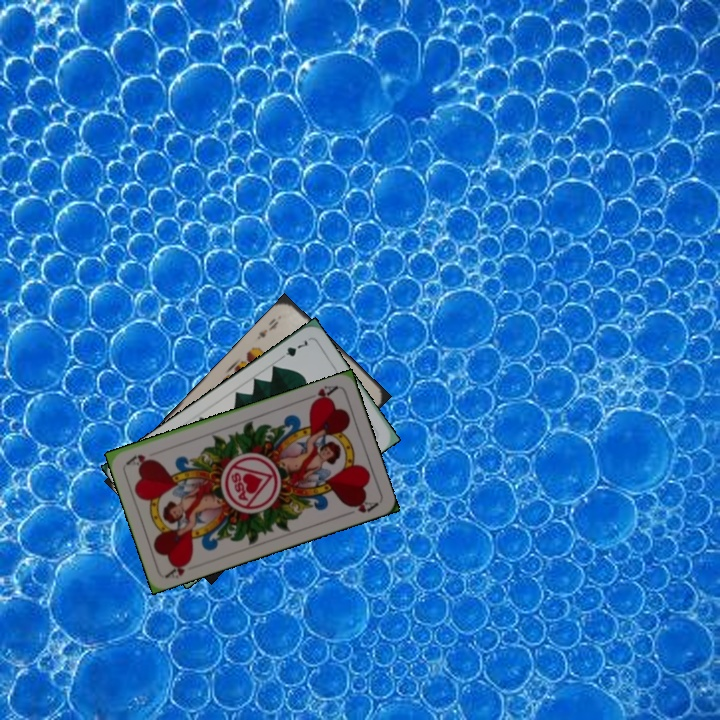E9: (253, 314, 281, 342)
G7: (275, 336, 310, 363)
HA: (301, 381, 340, 407), (162, 555, 194, 581)
